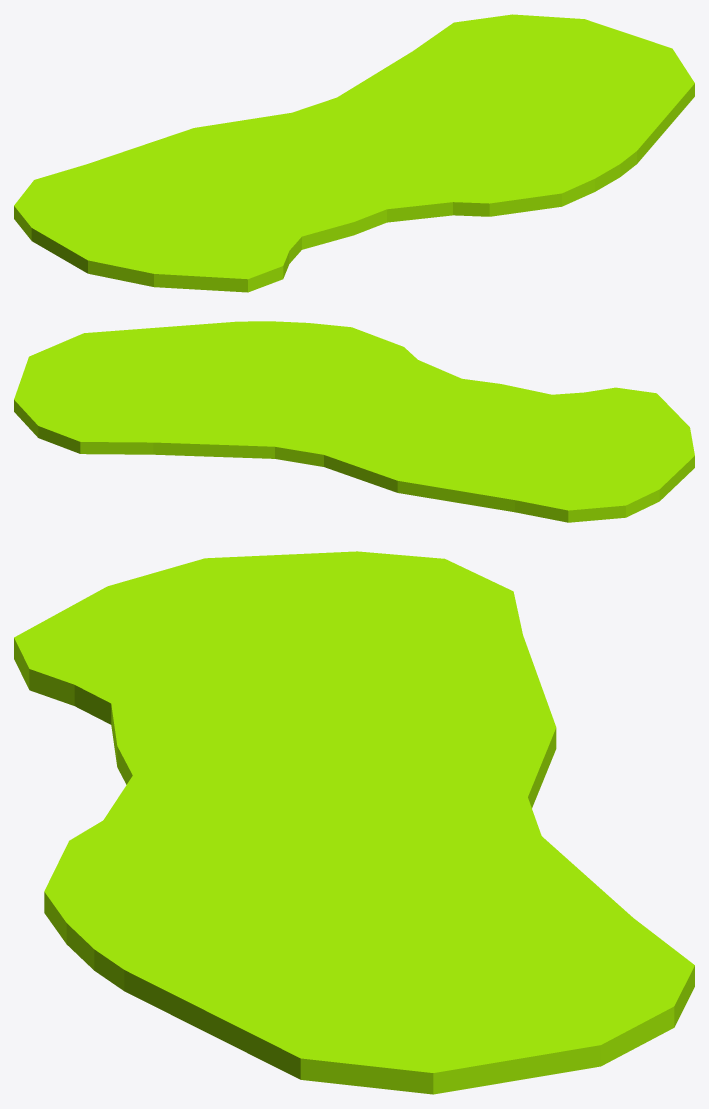
The model's file is Sand 6.FBX.
3 views of the same model, one above another, from view 1: azimuth 30°, elevation 25°; view 2: azimuth 150°, elevation 25°; view 3: azimuth 270°, elevation 25° (orthographic). The views are drawn at different scales.
Visible parts, largest first — view 1: Plane001; view 2: Plane001; view 3: Plane001.
Boxes of the visible parts, left/top/right/bottom form: Plane001: left=14, top=14, right=694, bottom=292; Plane001: left=14, top=321, right=694, bottom=522; Plane001: left=14, top=551, right=694, bottom=1094.
Size of the model in its own units: 114 by 2.18 by 62.96.
